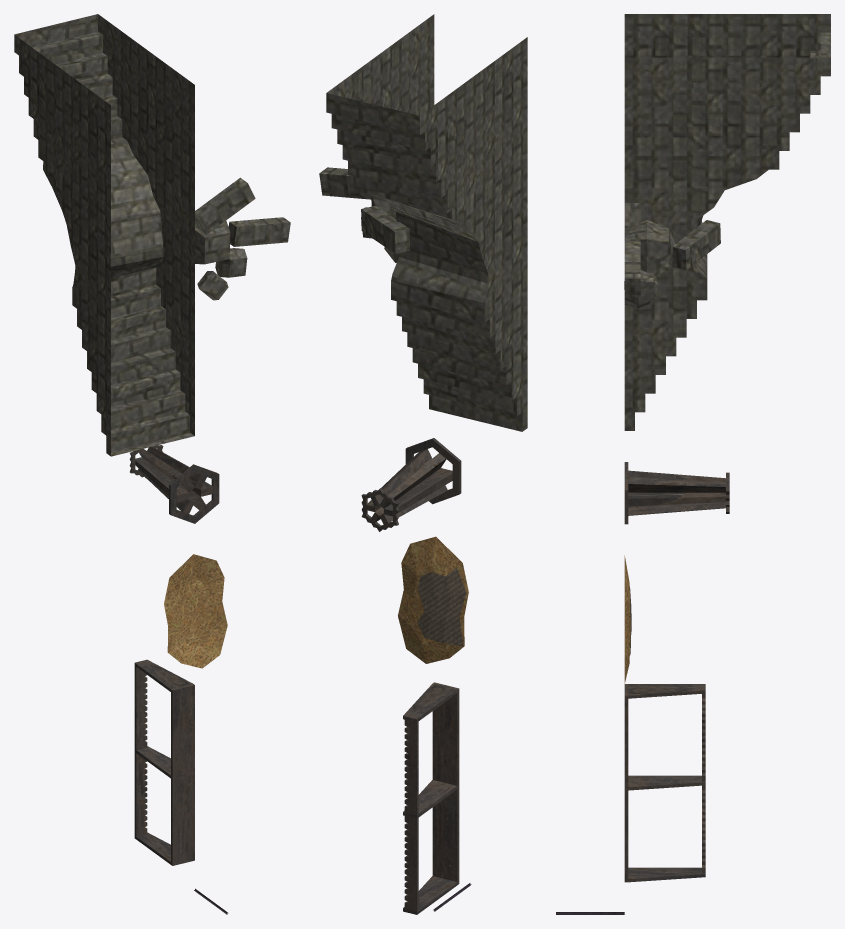
File: ArmoryBarracksDungeon.fbx
The picture shows the model from 3 angles, left to right: view 1: azimuth 30°, elevation 25°; view 2: azimuth 150°, elevation 25°; view 3: azimuth 270°, elevation 25°; orthographic projection. The views are drawn at different scales.
Visible parts, largest first — view 1: BrokenStairs, WeaponsRack_Long, PrisonBed, WeaponsRack-Round; view 2: BrokenStairs, WeaponsRack_Long, PrisonBed, WeaponsRack-Round; view 3: BrokenStairs, WeaponsRack_Long, WeaponsRack-Round, PrisonBed.
Boxes of the visible parts, x1,y1,x2,y2 form: BrokenStairs: [14, 14, 290, 456]; WeaponsRack_Long: [134, 659, 194, 865]; PrisonBed: [164, 554, 227, 668]; WeaponsRack-Round: [129, 445, 219, 523]; BrokenStairs: [319, 14, 527, 431]; WeaponsRack_Long: [403, 682, 459, 914]; PrisonBed: [398, 536, 468, 663]; WeaponsRack-Round: [361, 438, 461, 531]; BrokenStairs: [624, 14, 830, 430]; WeaponsRack_Long: [624, 684, 705, 882]; WeaponsRack-Round: [624, 462, 729, 524]; PrisonBed: [624, 555, 631, 683].
Bounding box in the file's own units: 321 × 1378 × 400.
